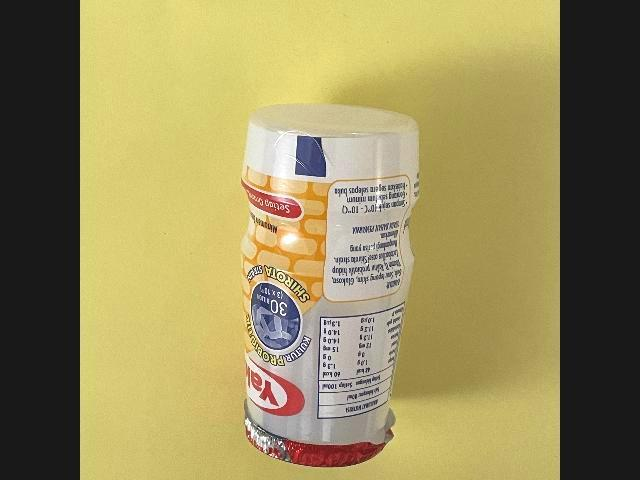plasticbottle: (238, 103, 422, 467)
